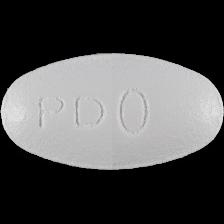59762-0156: (0, 0, 224, 224)
